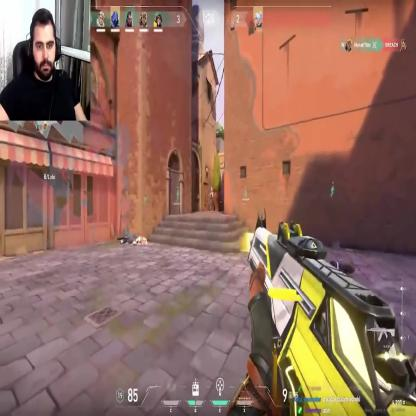enemy: (209, 186, 214, 212)
enemy_head: (210, 186, 213, 191)
